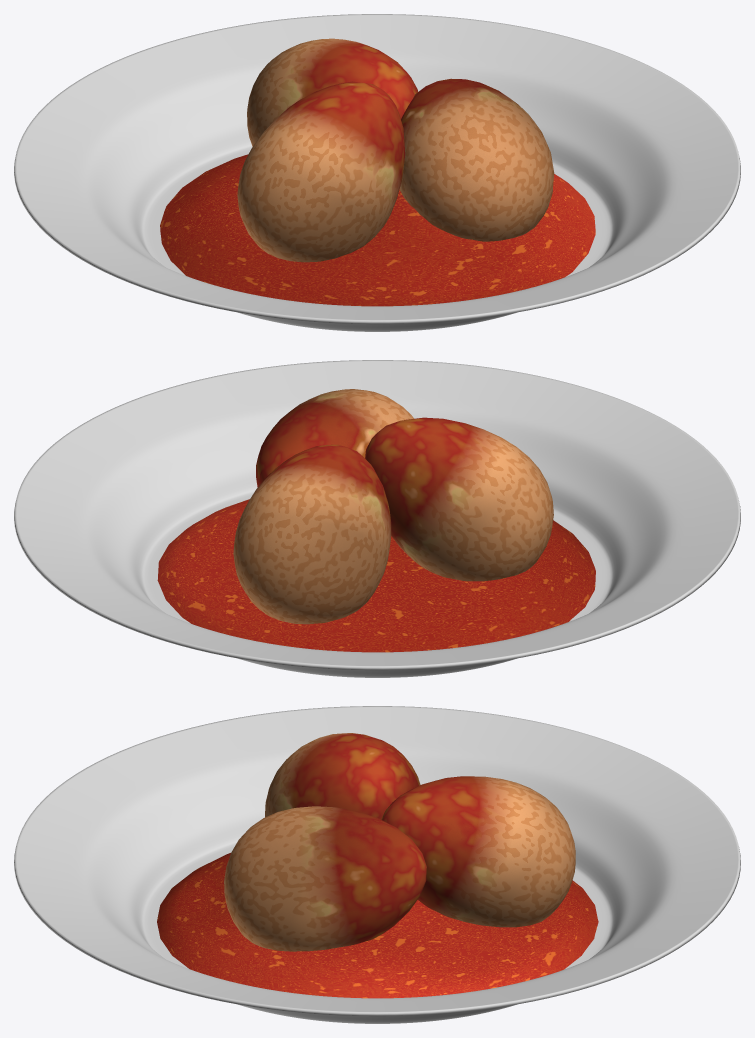
Rendered from telurbaladosorong.fbx.
The picture shows the model from 3 angles, top to bottom: view 1: azimuth 30°, elevation 25°; view 2: azimuth 150°, elevation 25°; view 3: azimuth 270°, elevation 25°; orthographic projection.
Visible parts, largest first — view 1: plate, sambal, tbalado, tbalado.002, tbalado.001; view 2: plate, sambal, tbalado, tbalado.001, tbalado.002; view 3: plate, sambal, tbalado.002, tbalado.001, tbalado.
Boxes of the visible parts, left/top/right/bottom form: plate: left=14, top=14, right=740, bottom=331; sambal: left=160, top=154, right=595, bottom=306; tbalado: left=237, top=81, right=405, bottom=262; tbalado.002: left=399, top=78, right=554, bottom=241; tbalado.001: left=247, top=38, right=418, bottom=146; plate: left=14, top=360, right=740, bottom=677; sambal: left=157, top=499, right=595, bottom=652; tbalado: left=365, top=417, right=553, bottom=581; tbalado.001: left=233, top=444, right=391, bottom=624; tbalado.002: left=256, top=389, right=413, bottom=486; plate: left=14, top=706, right=740, bottom=1023; sambal: left=157, top=853, right=598, bottom=998; tbalado.002: left=224, top=806, right=426, bottom=951; tbalado.001: left=381, top=776, right=575, bottom=927; tbalado: left=265, top=733, right=420, bottom=819.
Size of the model in its own units: 79.64 by 19.28 by 79.64.
3 materials, 2 textured.
